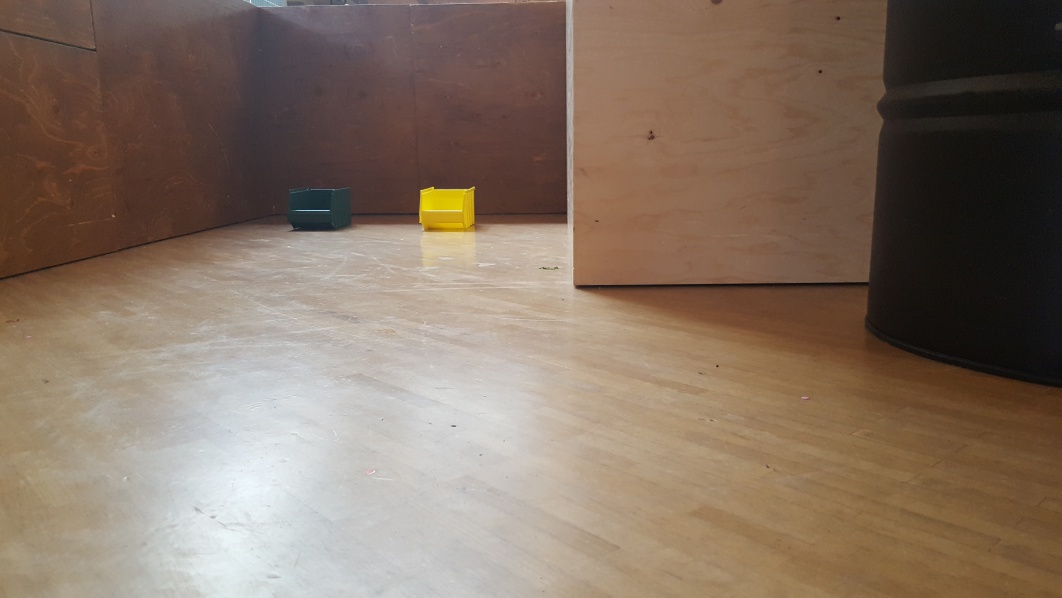tray: (285, 187, 353, 231), (415, 184, 480, 223)
